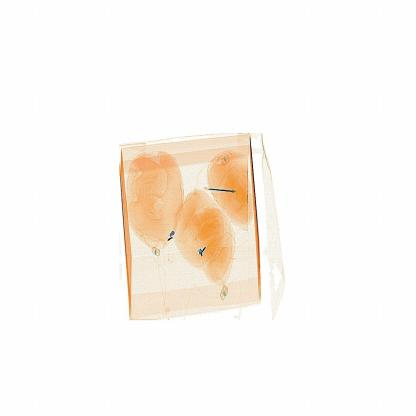wrench: (196, 180, 243, 206)
